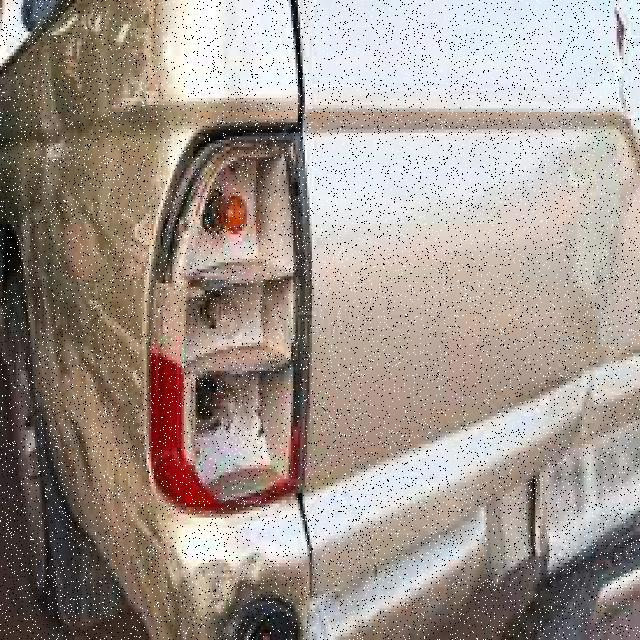Taillight-Damage: (135, 105, 307, 514)
rear-bumper-dent: (151, 521, 526, 636)
